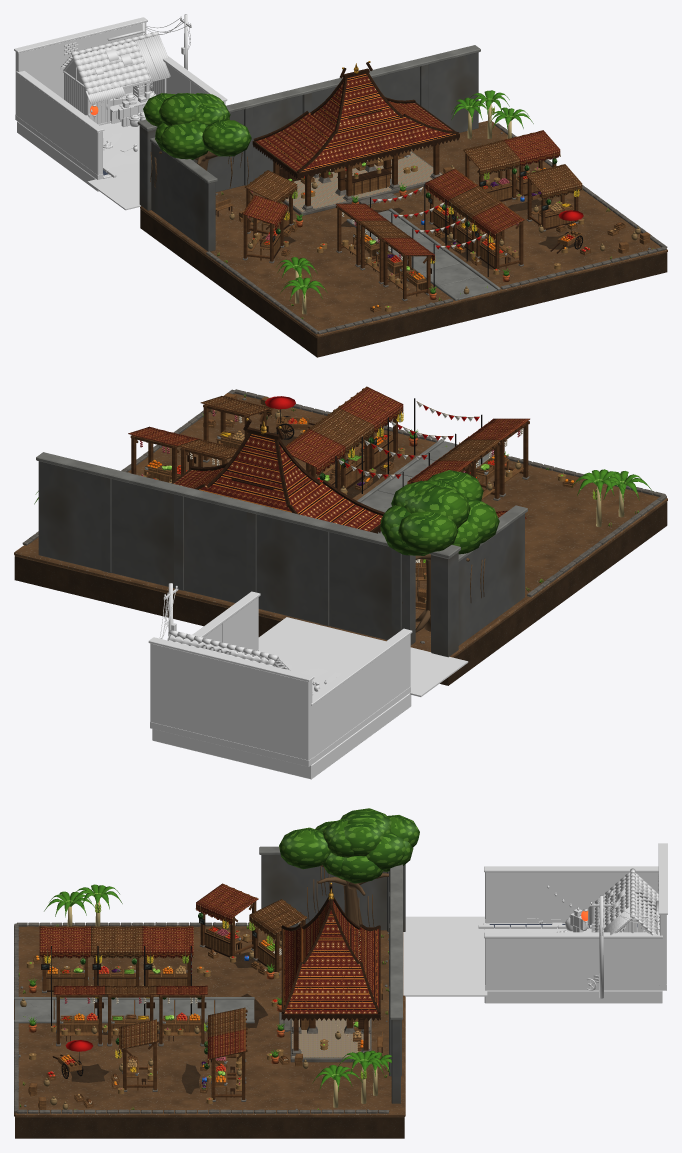
File: pasar_gelap_blockout.fbx
The picture shows the model from 3 angles, top to bottom: view 1: azimuth 30°, elevation 25°; view 2: azimuth 150°, elevation 25°; view 3: azimuth 270°, elevation 25°; orthographic projection. The views are drawn at different scales.
Visible parts, largest first — view 1: Ground_Dirt, Wall_Plaster, Ground_Soil, Pendopo_RoofLow, Env_Banyan, G_WallWest, Ground_Path, G_WallNorth, Pendopo_RoofTop, Wall_Concrete, Pendopo_RoofTrim, Env_BananaPlants (+35 smaller); view 2: Wall_Plaster, Ground_Dirt, G_WallNorth, Ground_Soil, Env_Banyan, Alley_Floor, G_WallWest, Wall_Concrete, Pendopo_RoofTop, G_Slab, Pendopo_RoofLow, Env_Border (+26 smaller); view 3: Ground_Dirt, Ground_Soil, Env_Banyan, G_WallEast, Alley_Floor, Wall_Plaster, Pendopo_RoofLow, G_WallWest, Ground_Path, Env_Border, Env_BananaPlants, G_Slab (+35 smaller).
Part boxes in pixels (x1,y1,x2,y2): Ground_Dirt: [140, 120, 667, 338]; Wall_Plaster: [139, 52, 478, 251]; Ground_Soil: [140, 209, 667, 357]; Pendopo_RoofLow: [256, 101, 455, 171]; Env_Banyan: [143, 93, 251, 187]; G_WallWest: [17, 74, 102, 174]; Ground_Path: [346, 208, 500, 300]; G_WallNorth: [15, 22, 146, 116]; Pendopo_RoofTop: [311, 73, 399, 131]; Wall_Concrete: [137, 45, 480, 183]; Pendopo_RoofTrim: [252, 62, 459, 176]; Env_BananaPlants: [276, 90, 533, 314]; Wall_Plaster: [38, 461, 524, 657]; Ground_Dirt: [14, 393, 667, 657]; G_WallNorth: [150, 643, 312, 760]; Ground_Soil: [14, 502, 667, 685]; Env_Banyan: [380, 470, 499, 632]; Alley_Floor: [258, 617, 468, 696]; G_WallWest: [311, 634, 410, 757]; Wall_Concrete: [36, 452, 527, 561]; Pendopo_RoofTop: [209, 434, 319, 506]; G_Slab: [152, 693, 411, 779]; Pendopo_RoofLow: [173, 468, 382, 531]; Env_Border: [22, 389, 666, 597]; Ground_Dirt: [14, 925, 405, 1117]; Ground_Soil: [15, 1117, 404, 1138]; Env_Banyan: [279, 808, 419, 946]; G_WallEast: [485, 938, 661, 985]; Alley_Floor: [403, 916, 487, 996]; Wall_Plaster: [261, 855, 405, 1103]; Pendopo_RoofLow: [283, 927, 378, 1013]; G_WallWest: [485, 872, 658, 919]; Ground_Path: [14, 997, 254, 1023]; Env_Border: [14, 922, 389, 1113]; Env_BananaPlants: [44, 884, 391, 1107]; G_Slab: [484, 990, 662, 1003].
Bounding box in the file's own units: 10229 × 3790 × 14028.
